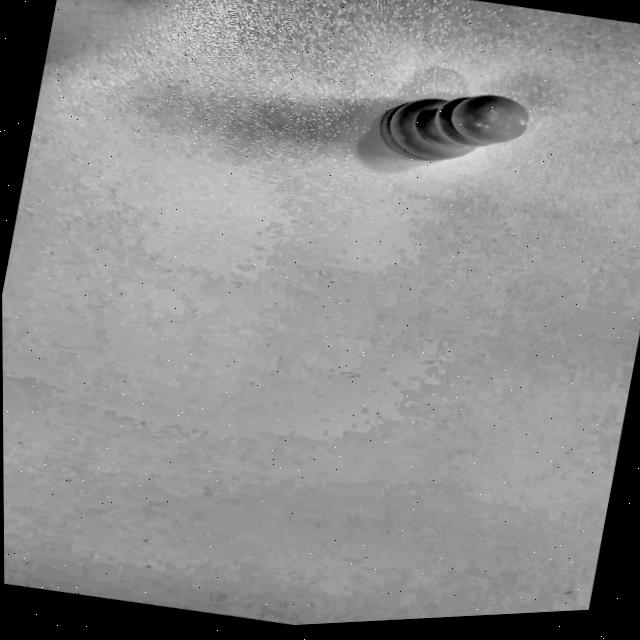white-pawn: (361, 93, 528, 163)
